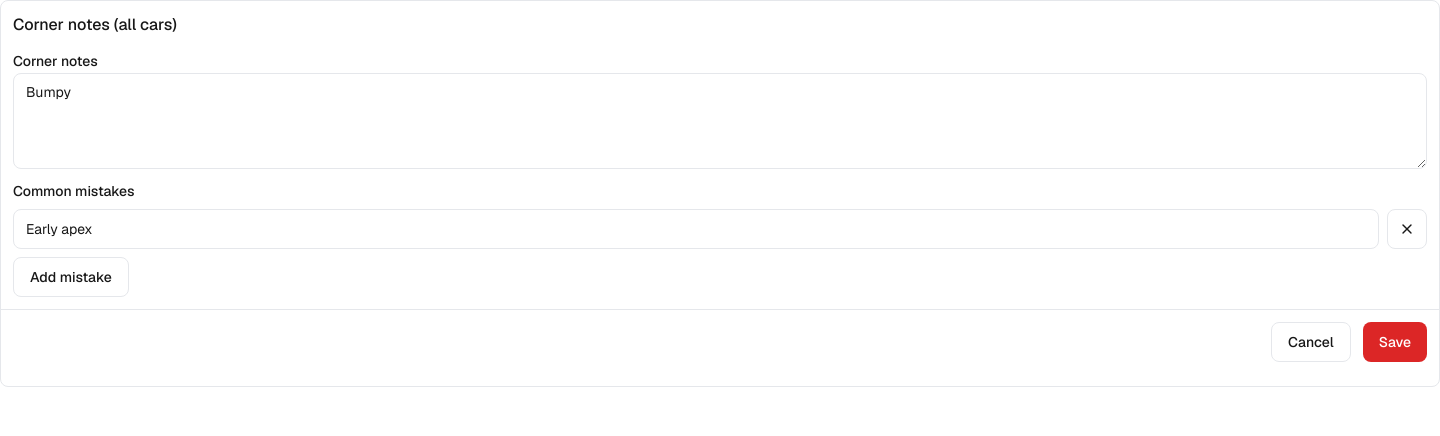
CornerNotesForm › keeps the input and offers retry when saving fails
In the text box labelled "Corner notes": [720, 121] box [13,73,1427,169], type "!"
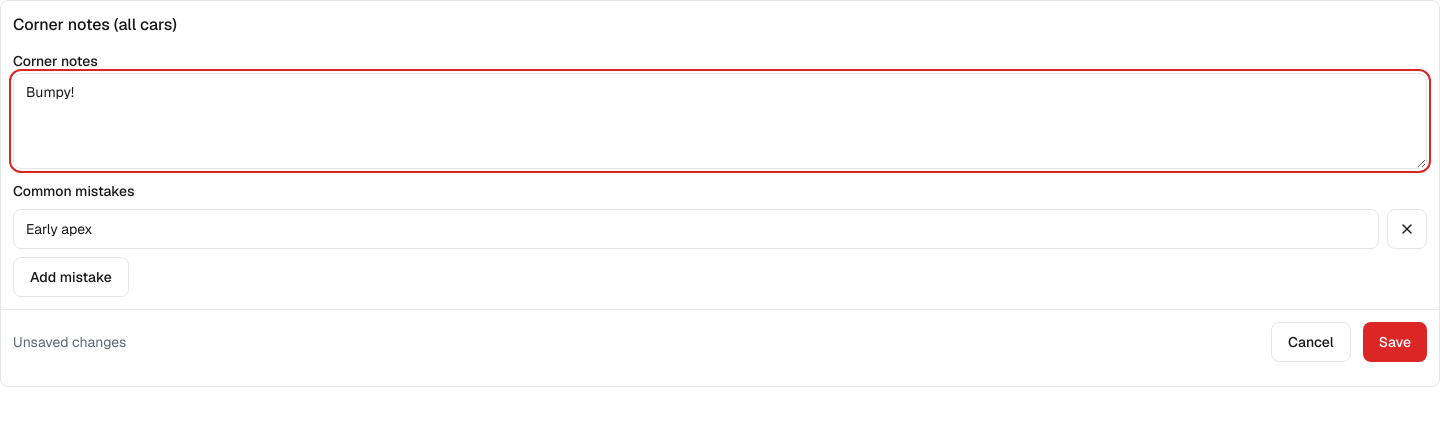
Click the button with aria-label "Save corner notes": [1395, 342] box [1363,322,1427,362]
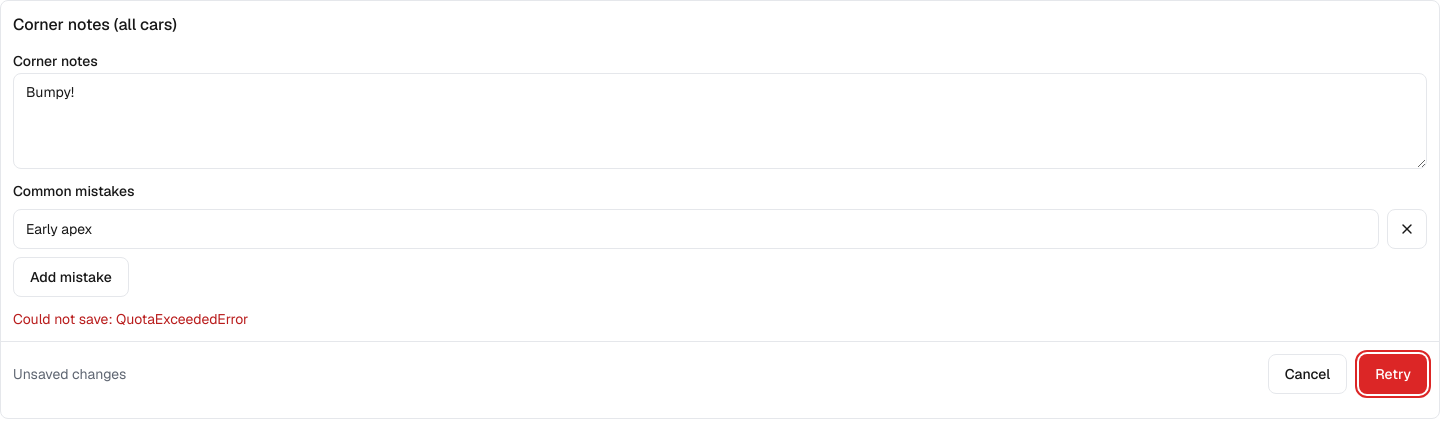
Expected: the text box labelled "Corner notes" holds "Bumpy!", [13,73,1427,169]
Result: the message reads "Could not save: QuotaExceededError" at [13,310,248,328]
